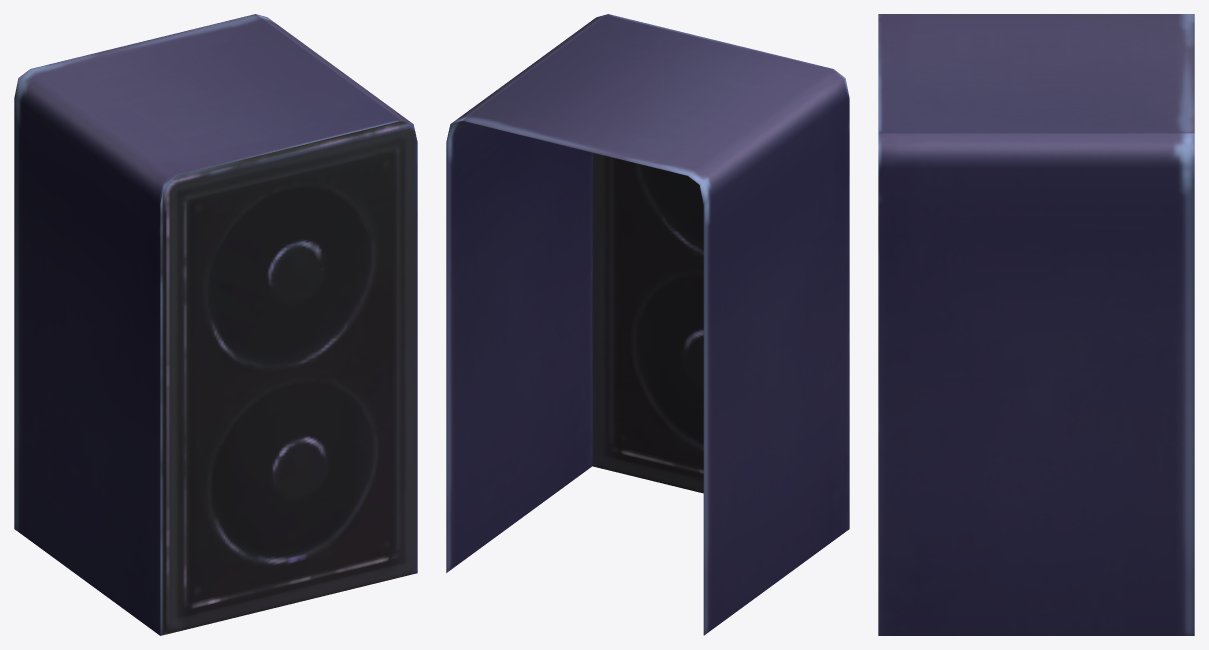
The model's file is Julebu_YinXiang3_fbx.FBX.
The picture shows the model from 3 angles, left to right: view 1: azimuth 30°, elevation 25°; view 2: azimuth 150°, elevation 25°; view 3: azimuth 270°, elevation 25°; orthographic projection. The views are drawn at different scales.
Parts seen in each view (by area): view 1: Object003; view 2: Object003; view 3: Object003.
Part boxes in pixels (x1,y1,x2,y2): Object003: (14,14,417,635); Object003: (446,14,849,635); Object003: (878,14,1194,635).
Bounding box in the file's own units: 0.5102 × 0.8648 × 0.5016.
